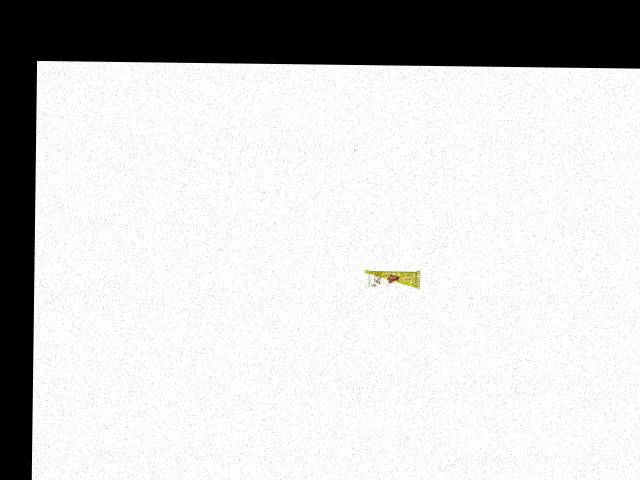chocolate: (361, 264, 423, 293)
